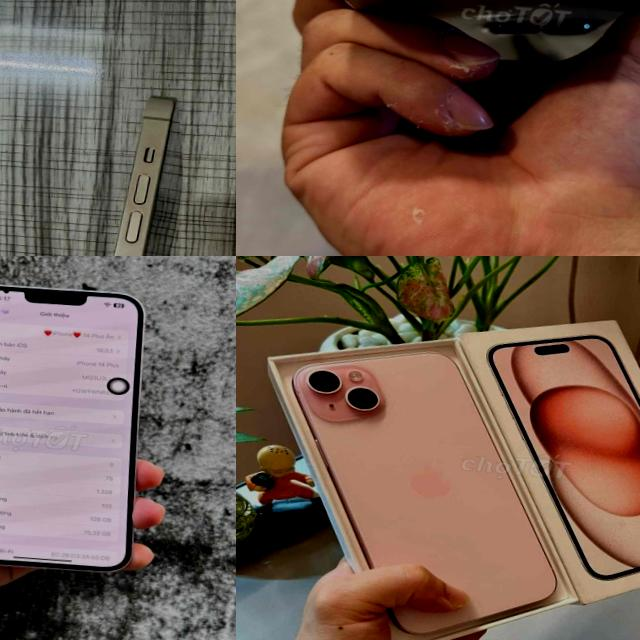gen_12_13: (258, 333, 582, 640), (331, 0, 640, 72)
gen_14: (0, 272, 171, 587), (41, 75, 182, 256)
screen_defect: (0, 282, 26, 305)
